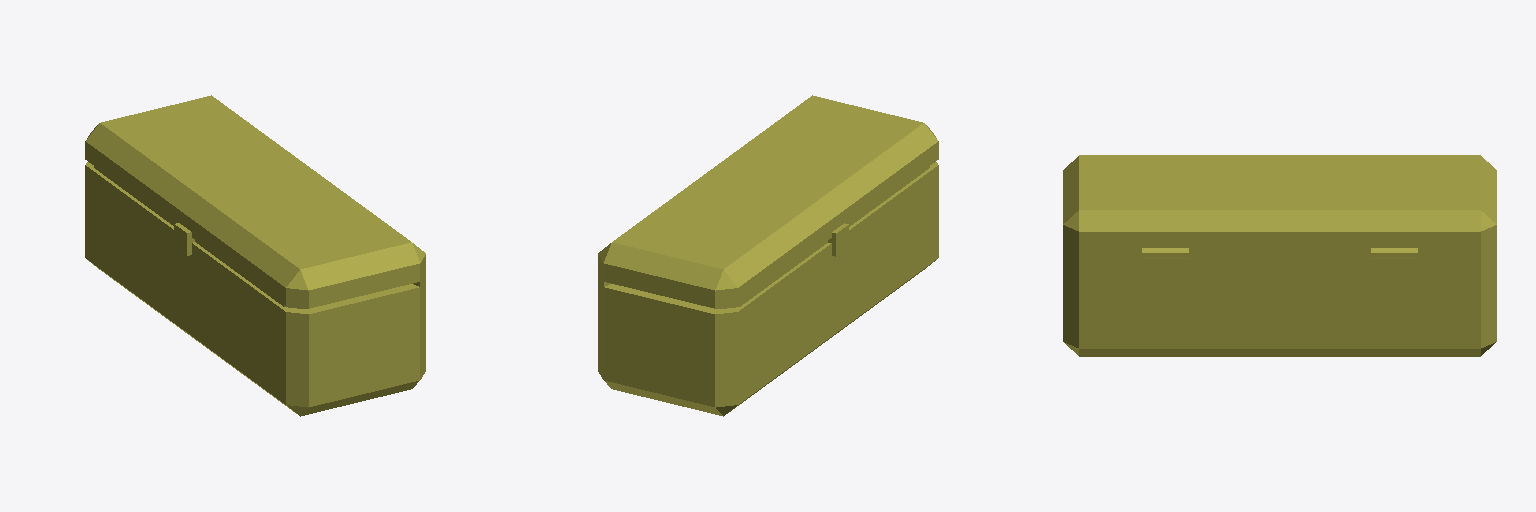
3 renders of one model, left to right at view 1: azimuth 30°, elevation 25°; view 2: azimuth 150°, elevation 25°; view 3: azimuth 270°, elevation 25°, orthographic.
Parts seen in each view (by area): view 1: a062b1fa83199b6:name4; view 2: a062b1fa83199b6:name4; view 3: a062b1fa83199b6:name4.
Boxes of the visible parts, x1=… form: a062b1fa83199b6:name4: x1=85, y1=95, x2=425, y2=416; a062b1fa83199b6:name4: x1=598, y1=95, x2=938, y2=416; a062b1fa83199b6:name4: x1=1063, y1=155, x2=1496, y2=356.
Size of the model in its own units: 0.876 by 0.82 by 2.19.